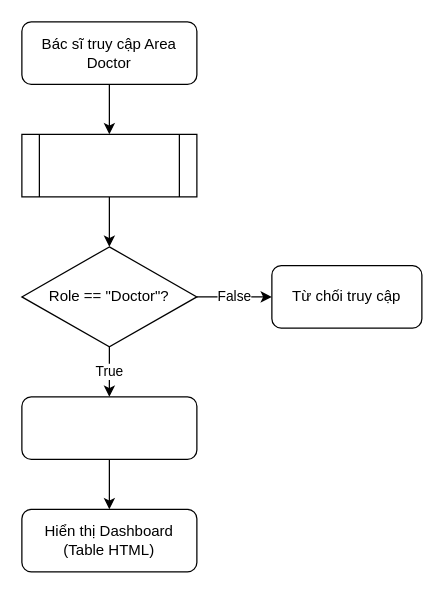
The diagram is 444 pixels wide and 594 high, and some of its shapes have lost their labels. Here are the shapes that lost their labels. From the top down, the centre of each, then its label:
point (109, 165): Authorize Middleware
point (109, 427): Truy vấn Async DS lịch khám hôm nay
